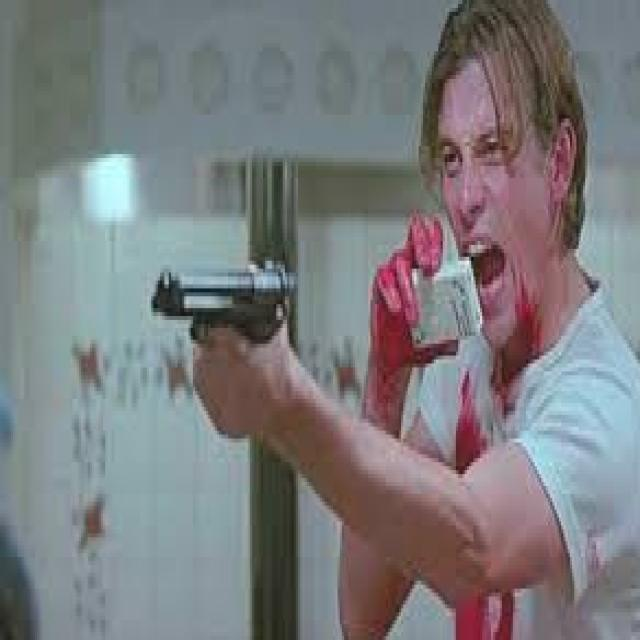gun: (125, 234, 304, 404)
